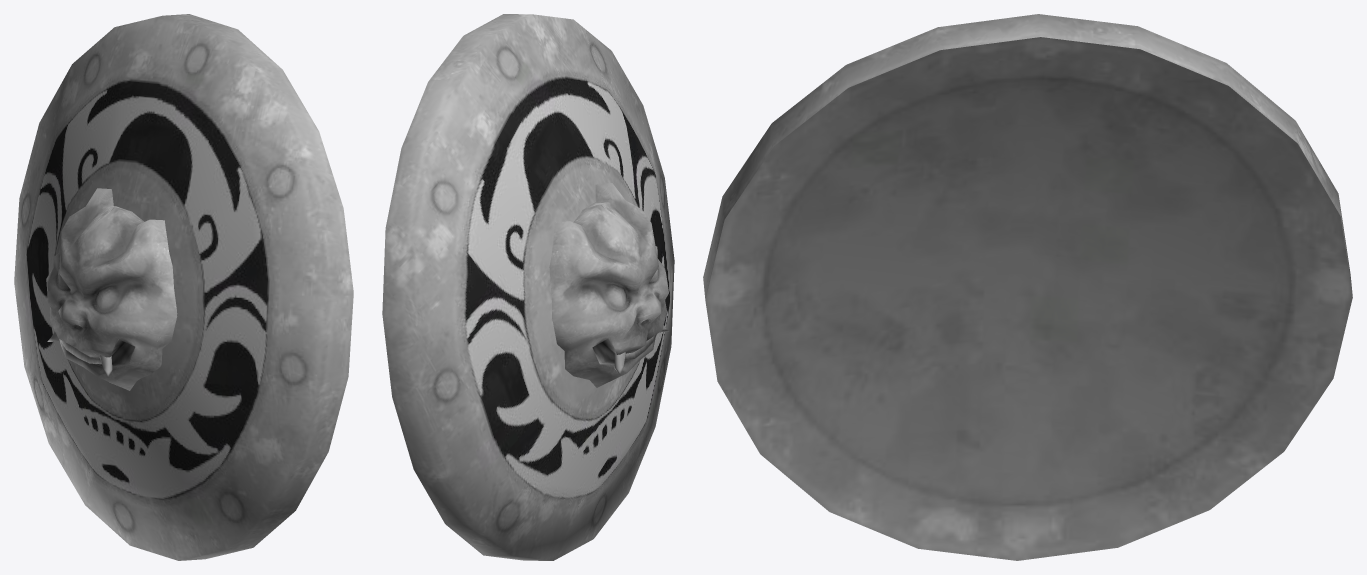
Rendered from shield-ironshields.glb.
The picture shows the model from 3 angles, left to right: view 1: azimuth 30°, elevation 25°; view 2: azimuth 150°, elevation 25°; view 3: azimuth 270°, elevation 25°; orthographic projection. The views are drawn at different scales.
Size of the model in its own units: 0.2302 by 0.5703 by 0.5754.
1 material, 1 textured.
